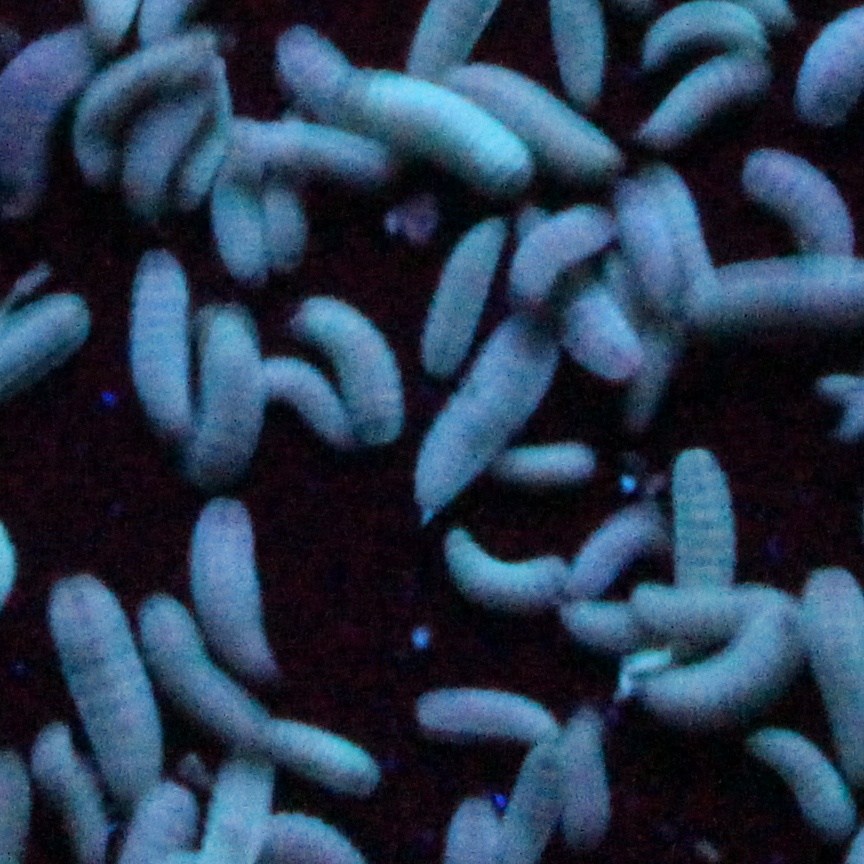larve: (398, 315, 556, 516), (41, 573, 164, 800), (338, 58, 536, 194), (132, 588, 269, 740), (287, 283, 410, 451), (76, 35, 213, 179), (189, 496, 296, 671), (123, 80, 249, 213), (632, 610, 787, 717), (124, 243, 204, 443), (418, 210, 513, 378), (731, 141, 860, 262), (665, 435, 745, 623), (636, 44, 768, 154), (427, 518, 567, 615), (567, 495, 683, 602), (197, 121, 393, 182), (512, 197, 613, 309), (256, 711, 377, 799), (410, 681, 563, 748), (253, 354, 345, 442), (617, 179, 680, 306), (207, 183, 265, 279), (505, 435, 594, 485), (259, 183, 313, 263)
